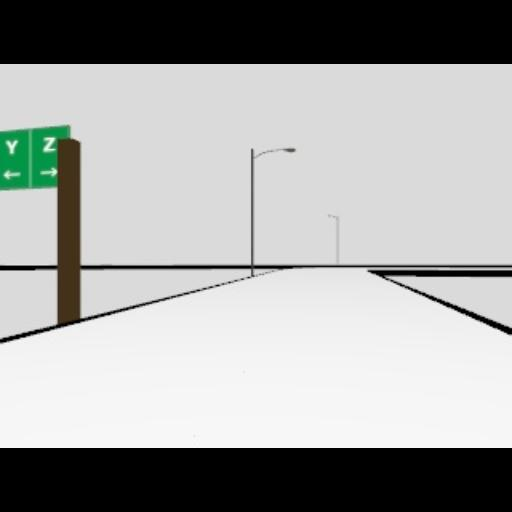Left: (2, 168, 20, 180)
Right: (40, 166, 58, 176)
Y: (4, 139, 18, 153)
Z: (42, 136, 56, 152)
